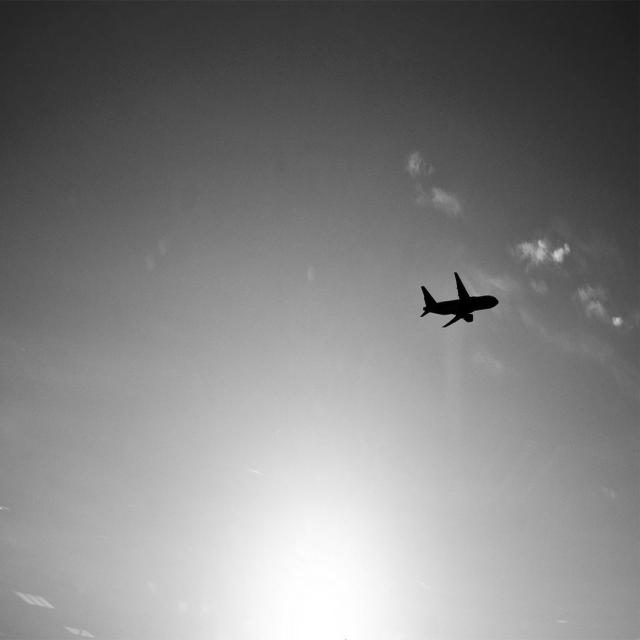aeroplane: (421, 269, 499, 331)
